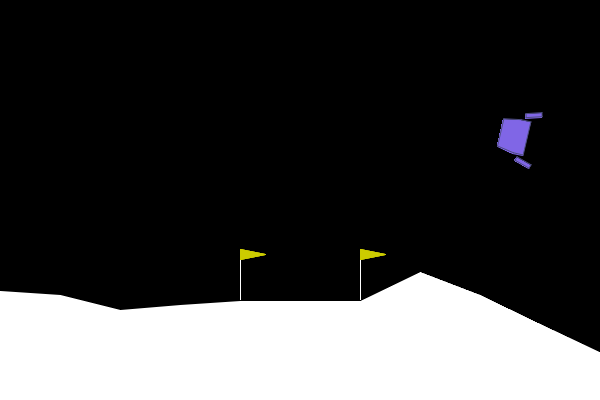lander: (491, 103, 544, 171)
